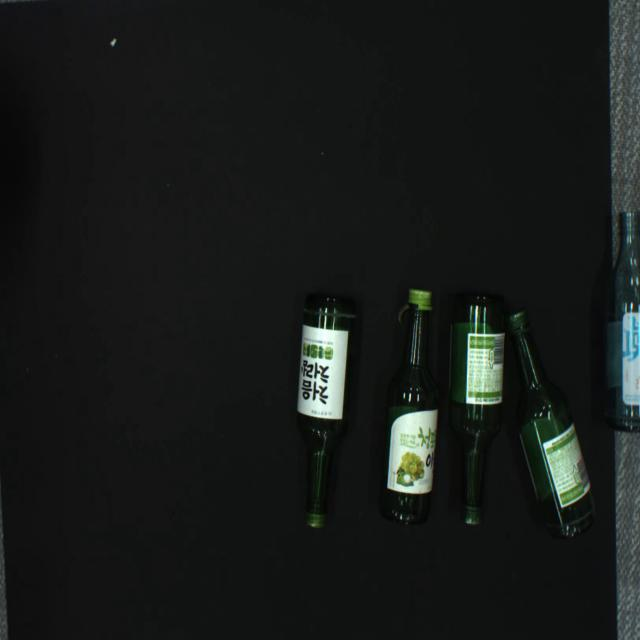soju-bottle: (505, 311, 597, 538), (379, 287, 440, 527), (297, 294, 357, 528), (447, 293, 506, 525), (603, 210, 640, 434)
